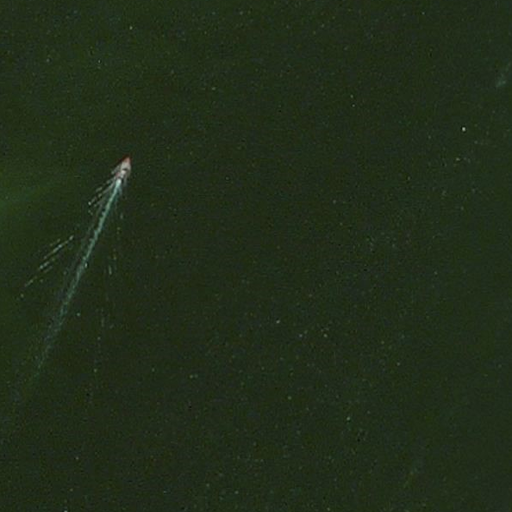ship: (108, 154, 133, 190)
